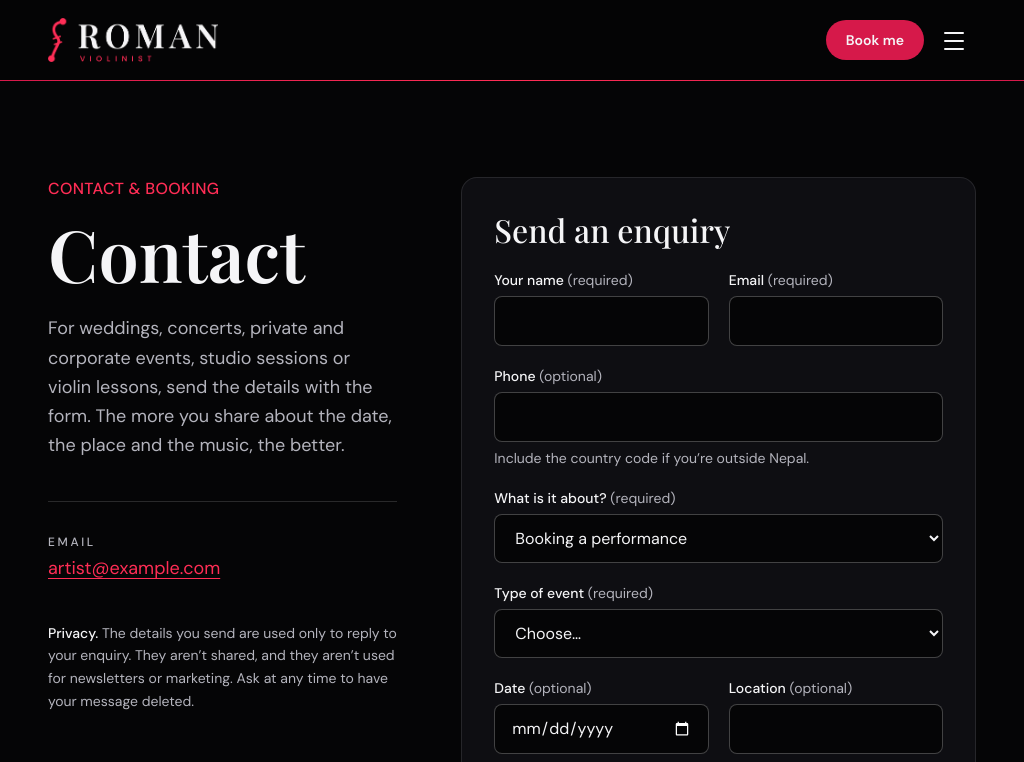
Test: contact page › sends a booking with the form token, then announces success
In the field labelled "Your name (required)": point(601, 321) [494,296,709,346], type "Sita Sharma"
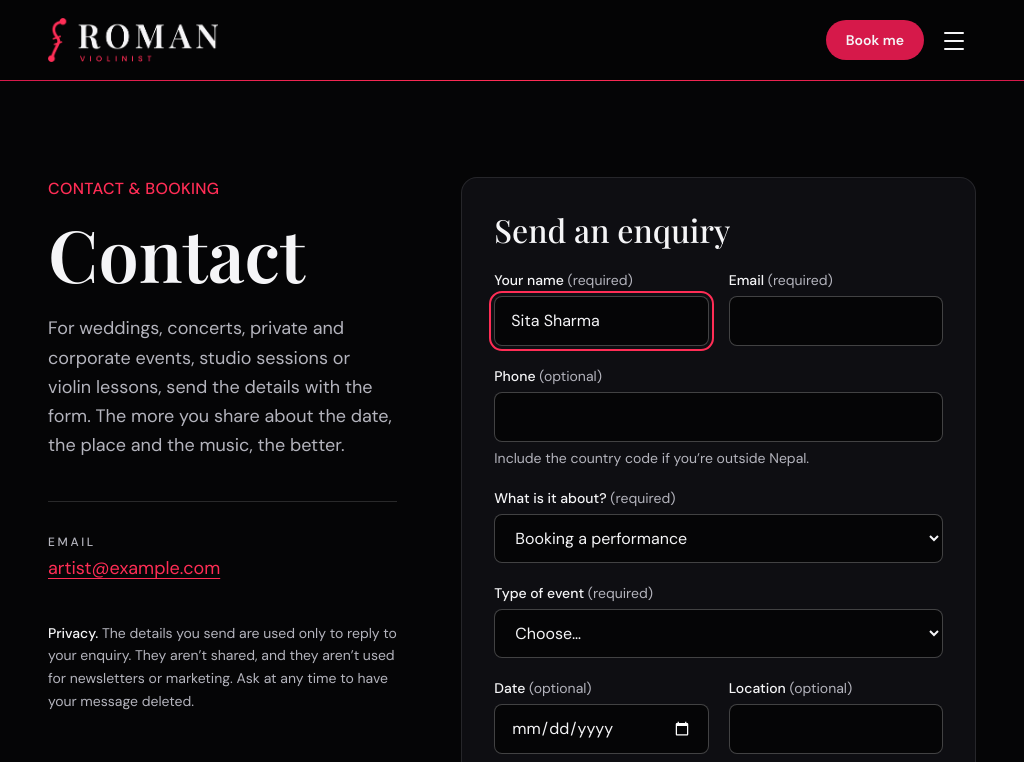
In the field labelled "Email (required)": point(836, 321) [729,296,943,346], type "sita@example.com"
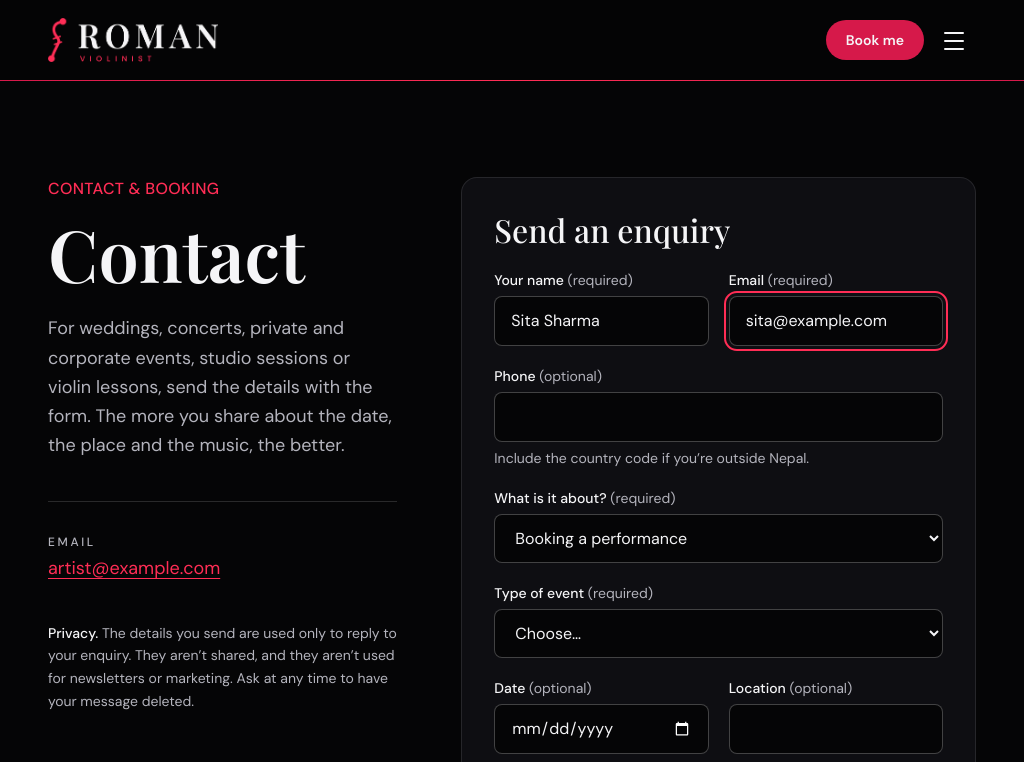
Select "Wedding" in the dropdown labelled "Type of event (required)": point(719, 634) [494,609,943,658]
(page scrolled)
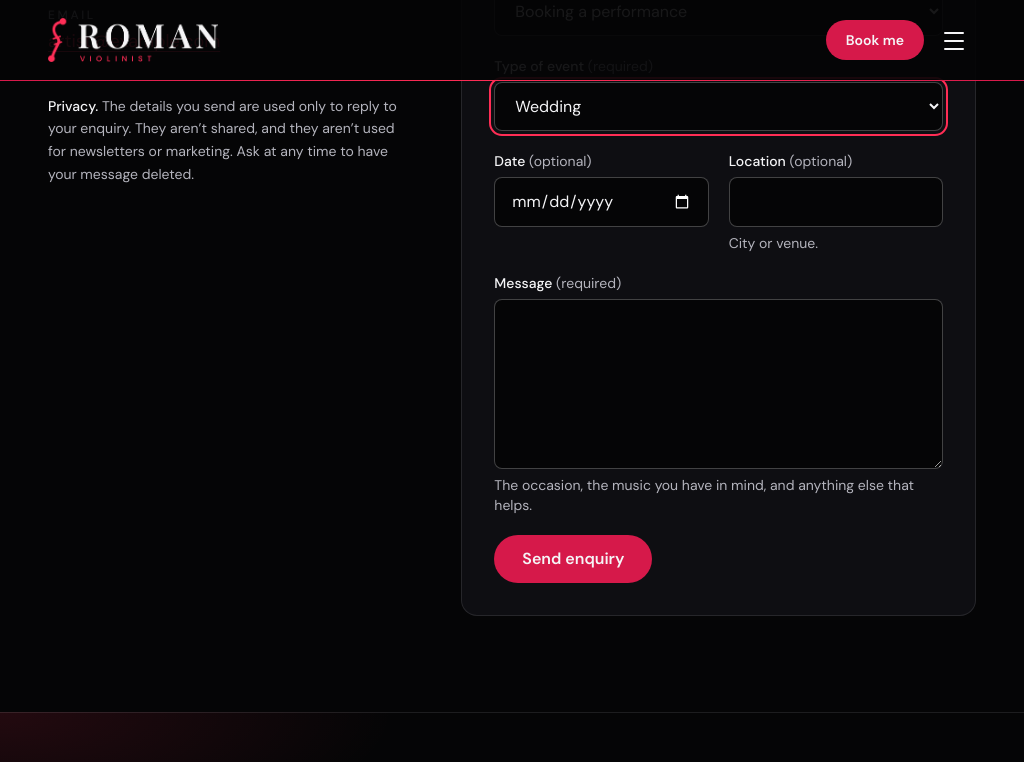
In the text box labelled "Message (required)": point(719, 384) [494,299,943,469], type "Live violin for our wedding ceremony, please."
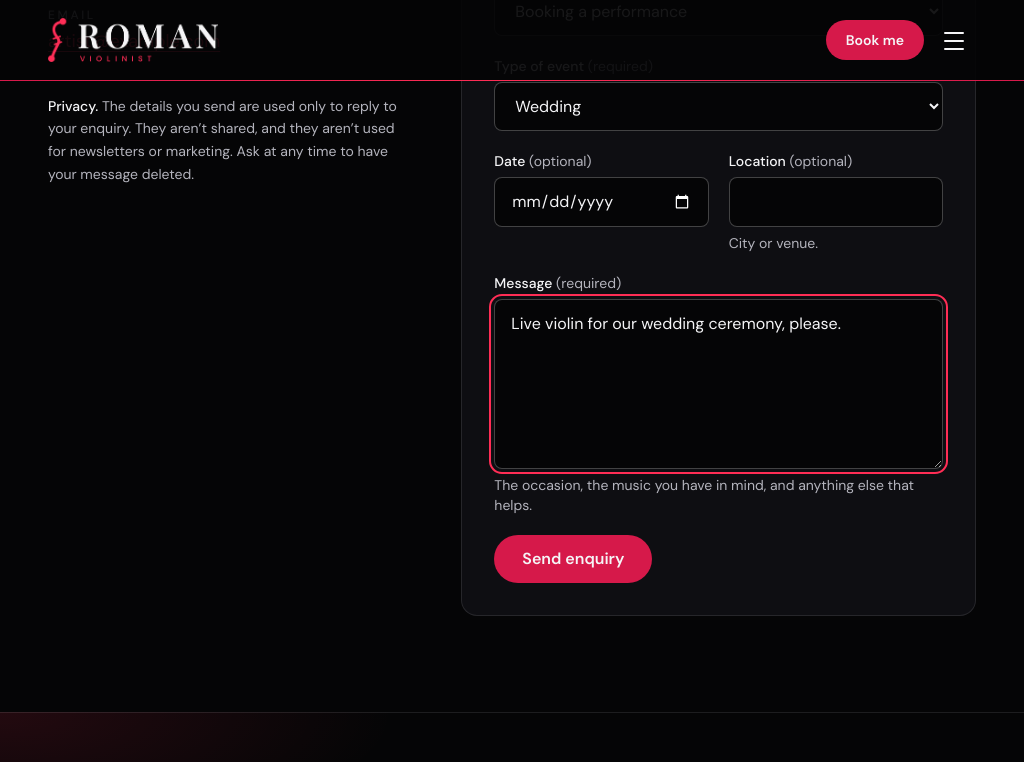
Click the button "Send enquiry": point(573, 559) [494,535,652,583]
(page scrolled)
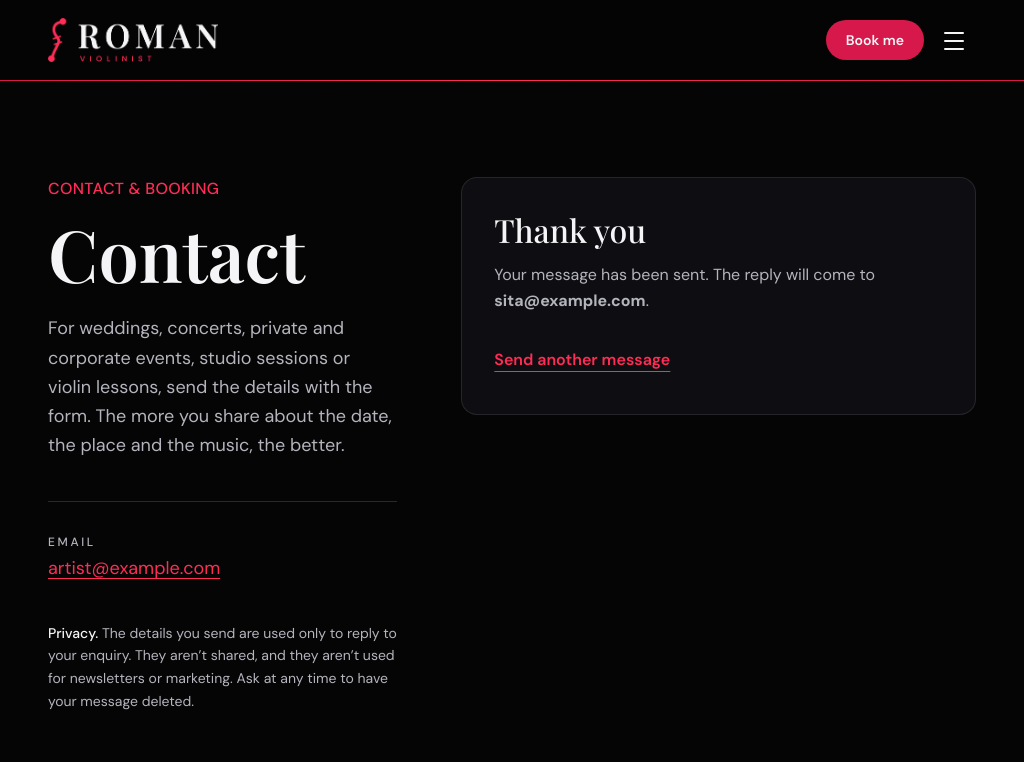
expect the message shows "Your message has been sent. The reply will come to sita@example.com.": met, box [461,177,976,415]
